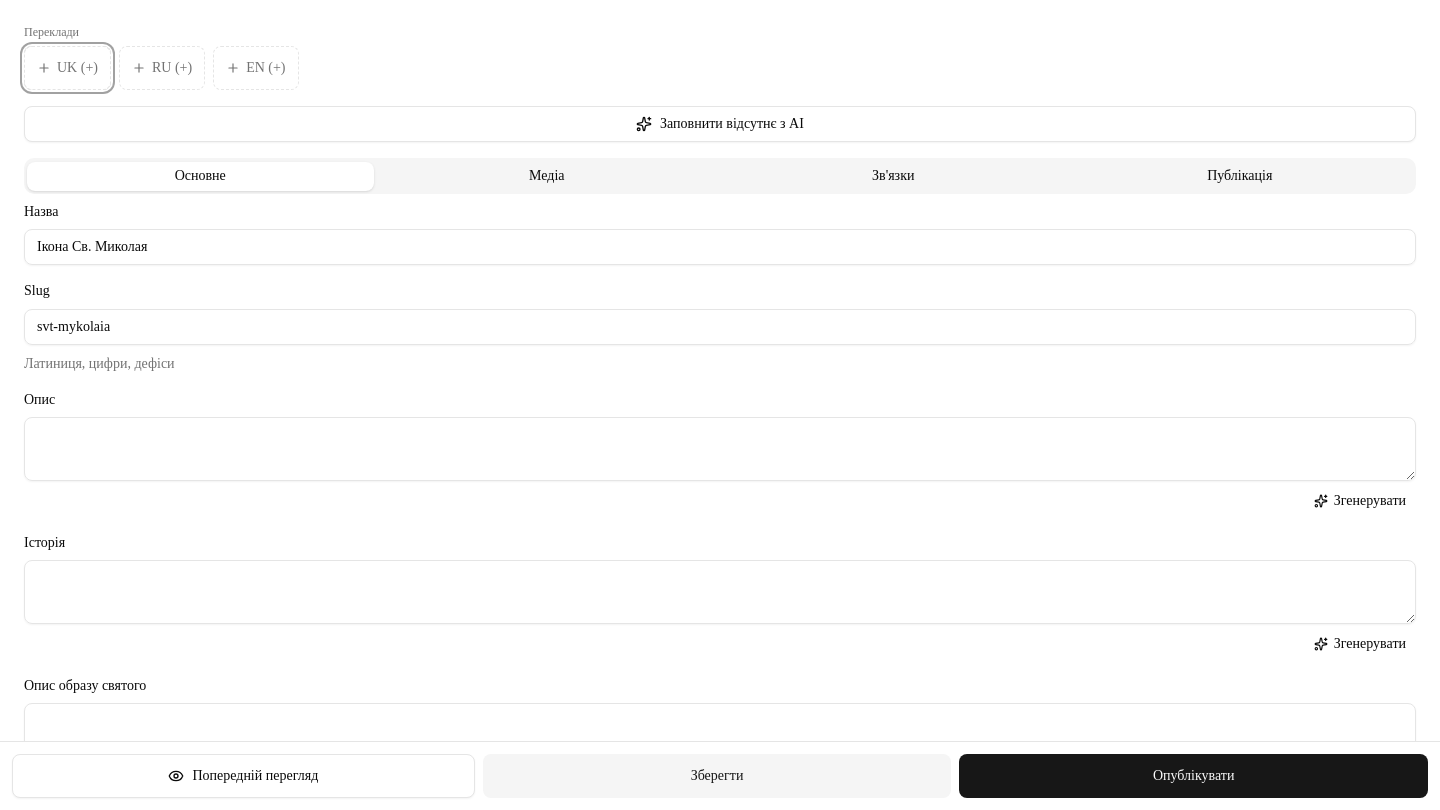
IconForm AI content generation › fillMissing patches every empty field it can and leaves already-filled fields alone
The width and height of the screenshot is (1440, 810).
Click the button "Заповнити відсутнє з AI" at (720, 124), box [24,106,1416,142]
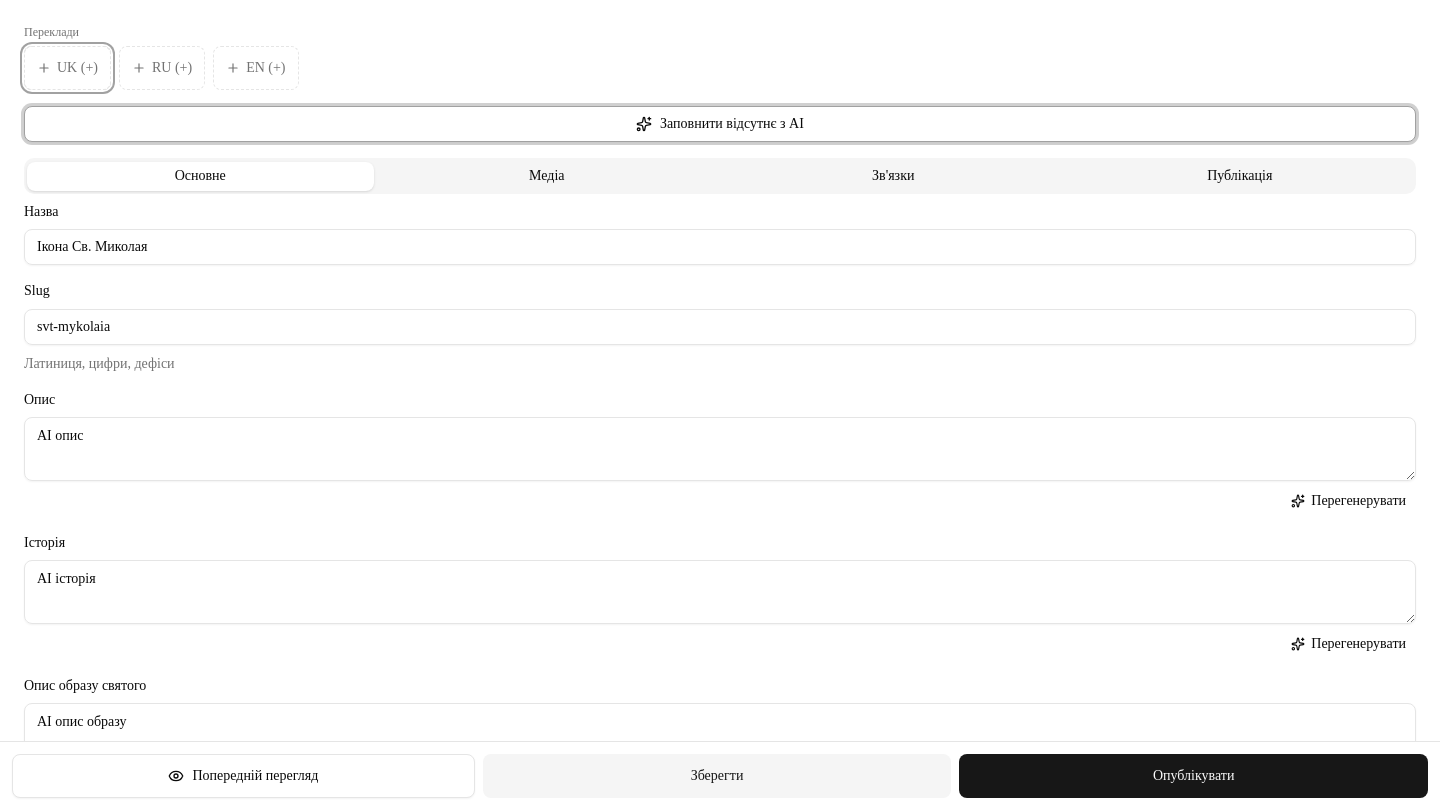
Expected: the text box showing "AI опис" is shown, [24,417,1416,481]
Expected: the text box showing "AI історія" is shown, [24,560,1416,624]
Expected: the text box showing "AI опис образу" is shown, [24,703,1416,767]
